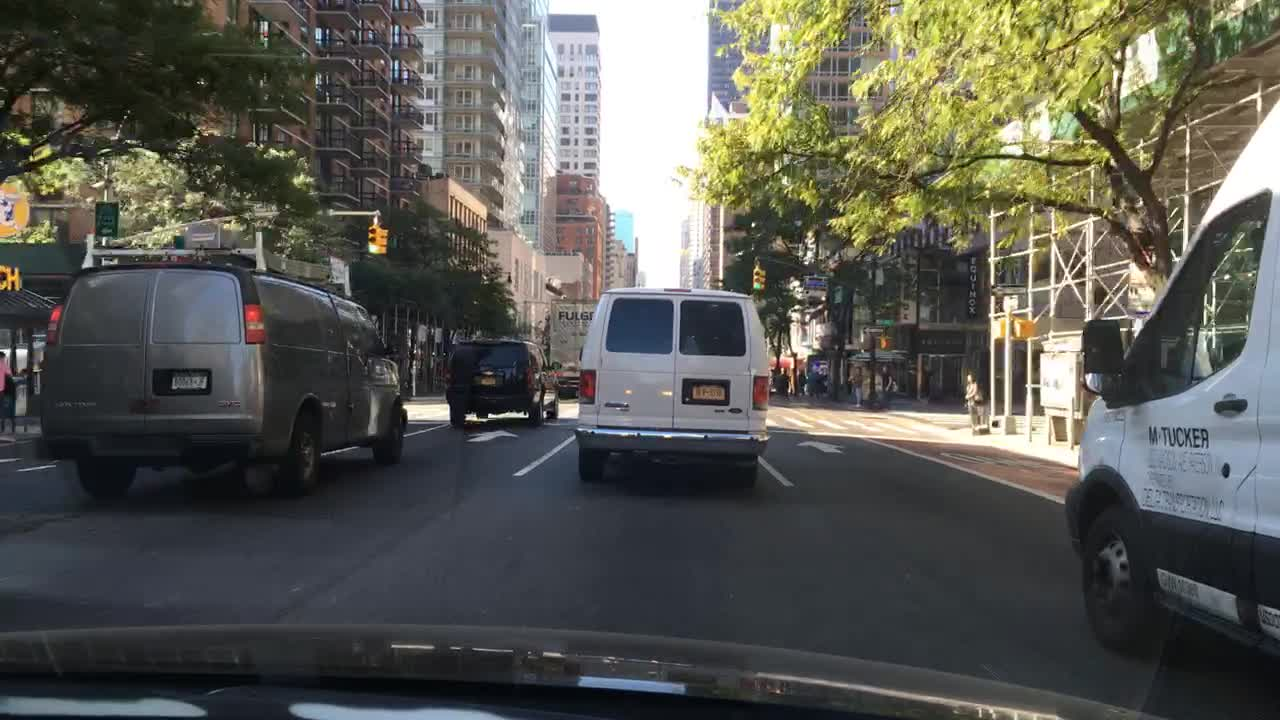car: (1058, 87, 1279, 693), (32, 228, 410, 506), (568, 280, 779, 489), (438, 330, 557, 435)
person: (961, 374, 983, 431), (0, 347, 15, 428), (880, 362, 899, 410), (848, 364, 866, 408), (794, 366, 811, 399), (781, 357, 793, 401), (819, 364, 829, 403)
traffic light: (367, 226, 380, 255), (750, 262, 761, 293), (379, 226, 390, 256), (1014, 319, 1030, 338), (991, 319, 1004, 336), (758, 266, 766, 292)
traffic sign: (94, 201, 128, 243), (327, 255, 350, 287), (803, 274, 833, 289), (873, 316, 896, 328), (418, 323, 428, 346)
truck: (546, 299, 599, 401)
